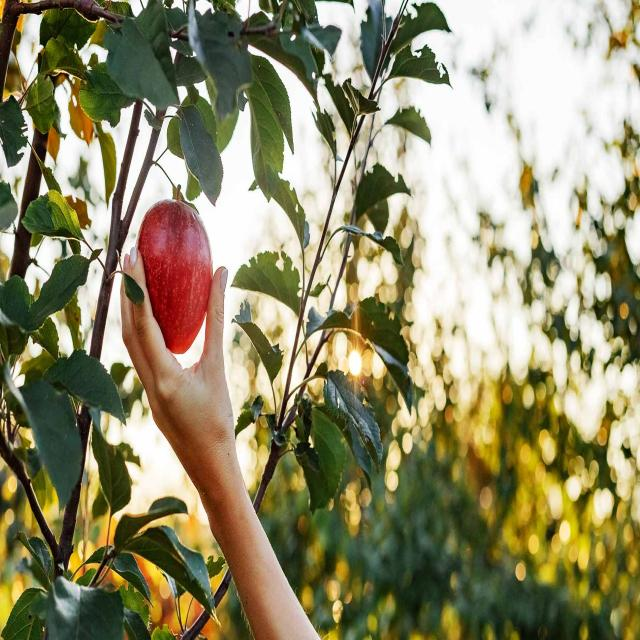manzana: (131, 177, 215, 367)
